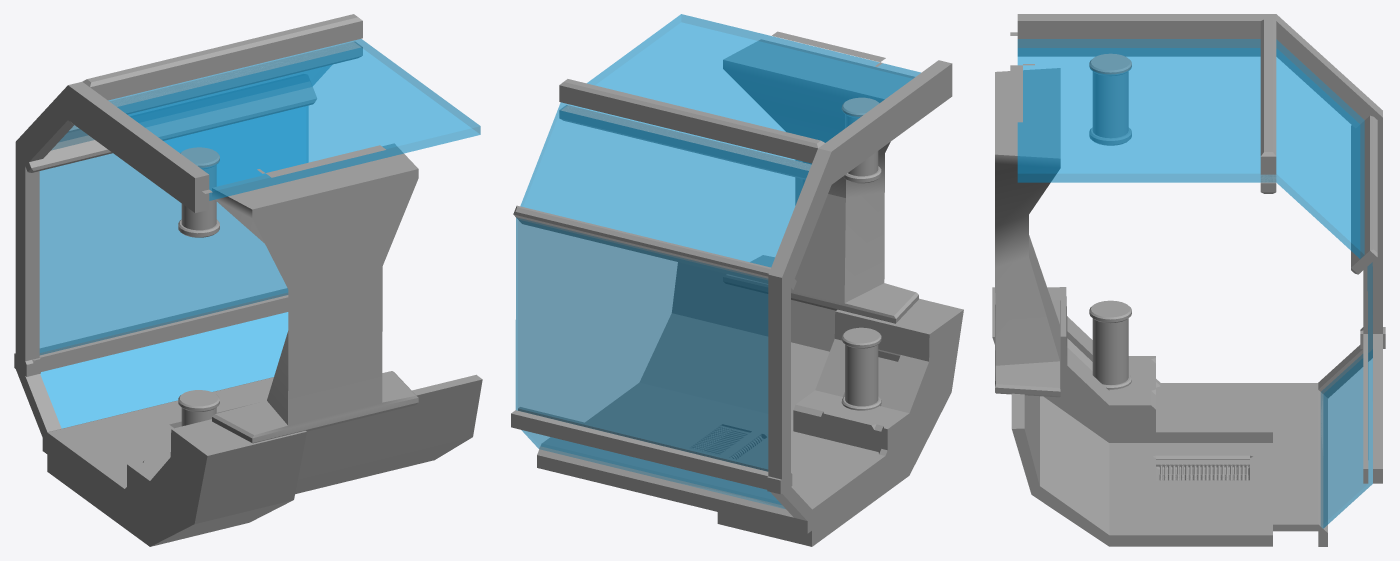
The model's file is TigerArcade.fbx.
3 views of the same model, side by side, from view 1: azimuth 30°, elevation 25°; view 2: azimuth 150°, elevation 25°; view 3: azimuth 270°, elevation 25° (orthographic). The views are drawn at different scales.
Visible parts, largest first — view 1: pasted__pCube6, pasted__pCube5, pasted__pasted__pCylinder5, pasted__pCylinder5; view 2: pasted__pCube6, pasted__pCube5, pasted__pCylinder5, pasted__pasted__pCylinder5; view 3: pasted__pCube6, pasted__pCube5, pasted__pasted__pCylinder5, pasted__pCylinder5.
Boxes of the visible parts, x1=… form: pasted__pCube6: x1=14, y1=14, x2=482, y2=546; pasted__pCube5: x1=212, y1=143, x2=418, y2=443; pasted__pasted__pCylinder5: x1=178, y1=147, x2=219, y2=237; pasted__pCylinder5: x1=178, y1=390, x2=219, y2=426; pasted__pCube6: x1=511, y1=14, x2=963, y2=546; pasted__pCube5: x1=723, y1=39, x2=918, y2=323; pasted__pCylinder5: x1=841, y1=327, x2=881, y2=410; pasted__pasted__pCylinder5: x1=841, y1=97, x2=881, y2=183; pasted__pCube6: x1=992, y1=14, x2=1385, y2=546; pasted__pCube5: x1=995, y1=68, x2=1060, y2=397; pasted__pasted__pCylinder5: x1=1089, y1=53, x2=1131, y2=145; pasted__pCylinder5: x1=1089, y1=300, x2=1131, y2=389.
Bounding box in the file's own units: 88.64 × 119 × 103.
